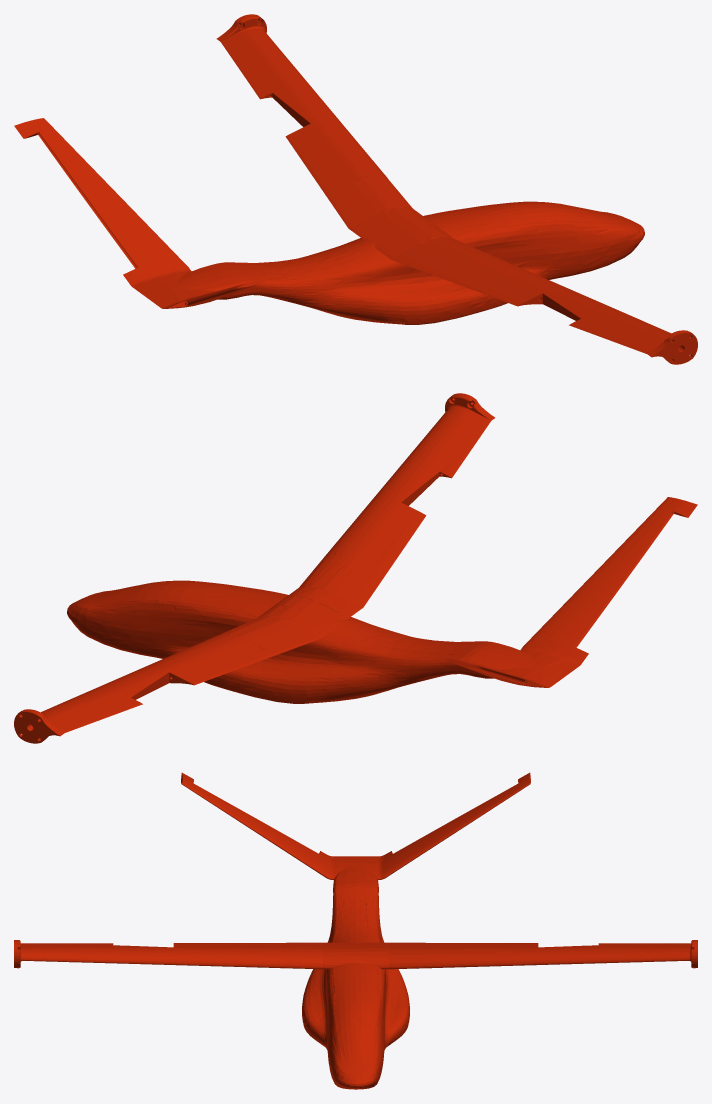
File: mainbody_red.dae
The picture shows the model from 3 angles, top to bottom: view 1: azimuth 30°, elevation 25°; view 2: azimuth 150°, elevation 25°; view 3: azimuth 270°, elevation 25°; orthographic projection. The views are drawn at different scales.
Visible parts, largest first — view 1: Main_Body; view 2: Main_Body; view 3: Main_Body.
Boxes of the visible parts, x1,y1,x2,y2 form: Main_Body: (14, 14, 697, 364); Main_Body: (14, 393, 697, 743); Main_Body: (14, 772, 697, 1089).
Bounding box in the file's own units: 0.8056 × 1.17 × 0.2545.
